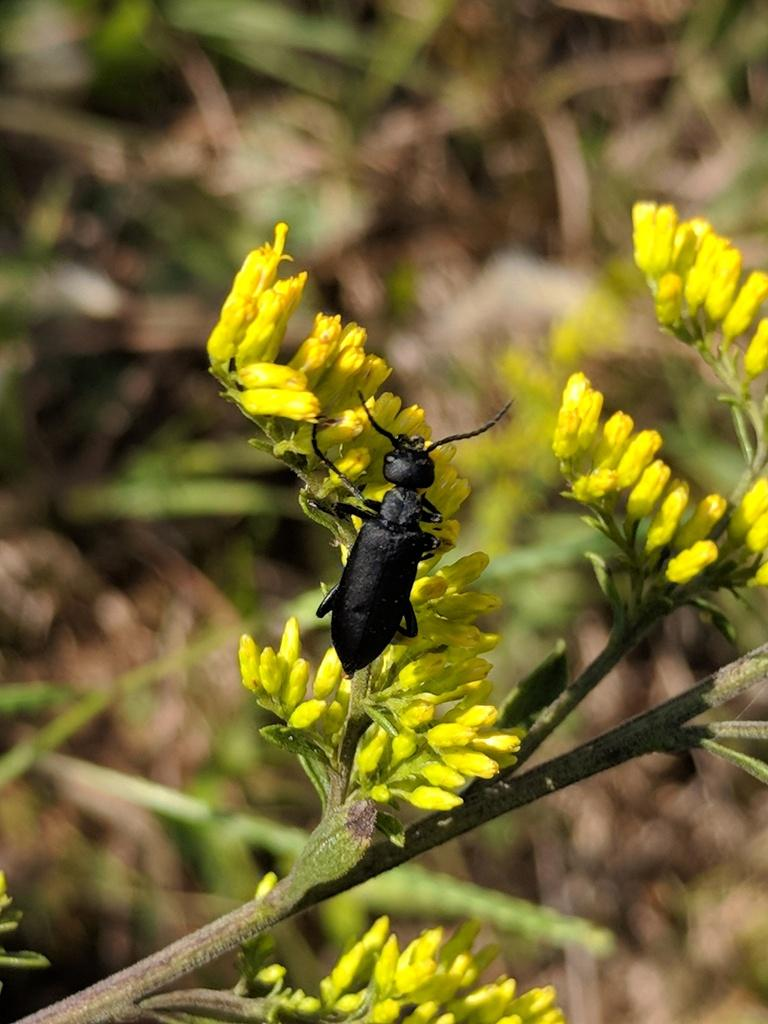blister_beetle: (250, 367, 535, 705)
